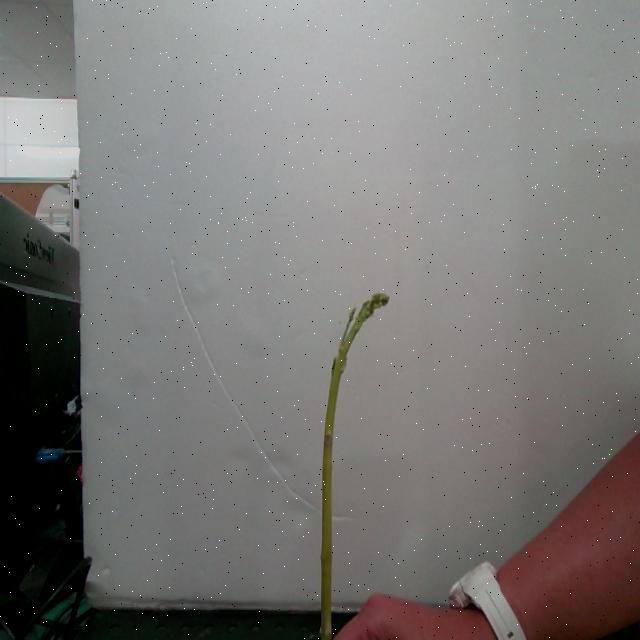aspargus: (320, 294, 390, 640)
